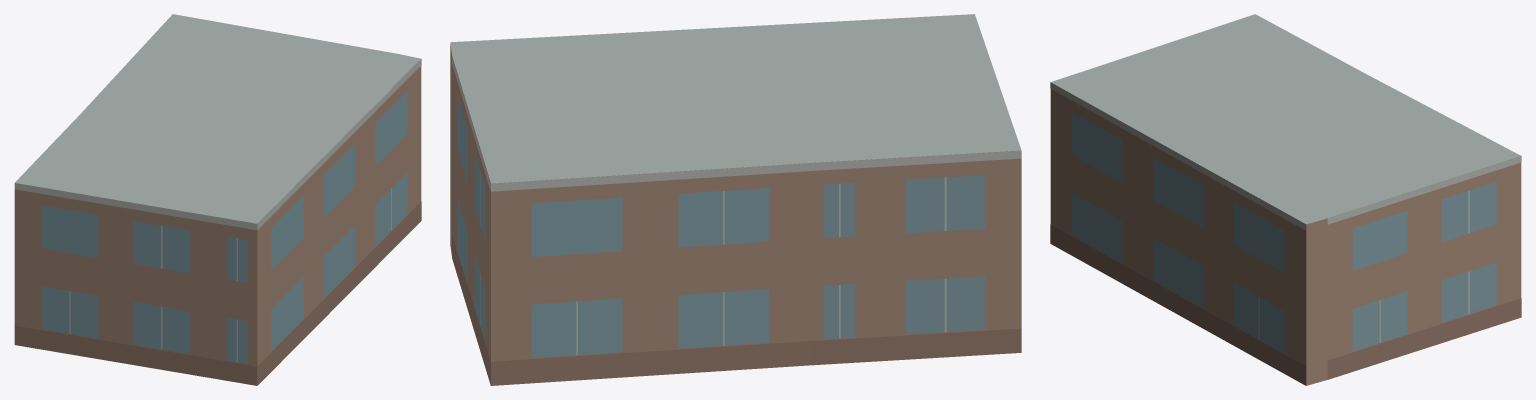
File: survey-upis-32649012.glb
3 views of the same model, side by side, from view 1: azimuth 30°, elevation 25°; view 2: azimuth 150°, elevation 25°; view 3: azimuth 270°, elevation 25° (orthographic). The views are drawn at different scales.
Visible parts, largest first — view 1: survey-upis-32649012.tmp; view 2: survey-upis-32649012.tmp; view 3: survey-upis-32649012.tmp.
Part boxes in pixels (x1,y1,x2,y2): survey-upis-32649012.tmp: [14, 14, 421, 385]; survey-upis-32649012.tmp: [450, 14, 1021, 385]; survey-upis-32649012.tmp: [1050, 14, 1521, 385].
Bounding box in the file's own units: 17.04 × 6.1 × 16.12.
